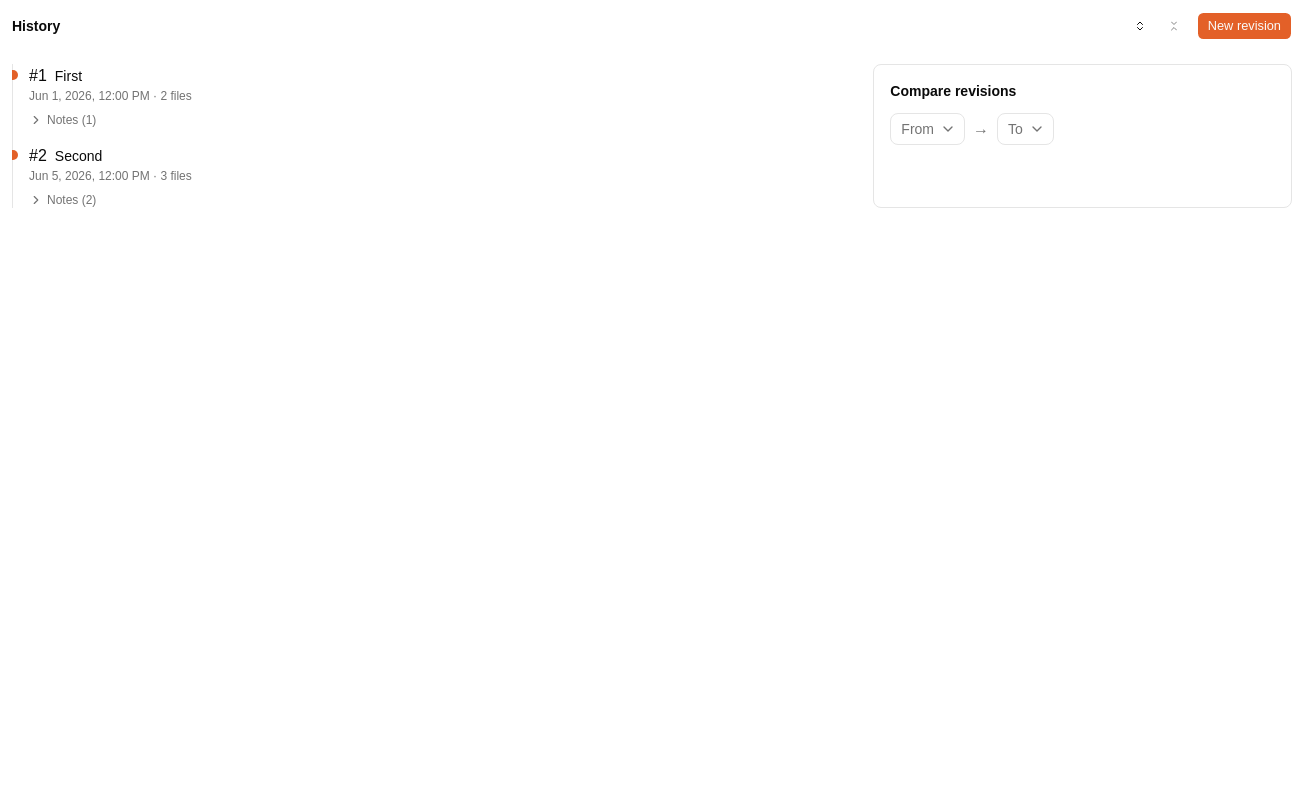
RevisionsTab -- notes drawer expand/collapse-all (Round 11 T7) › collapse-all closes every drawer again
Expected: the button "Notes (1)" is shown, [29,112,96,128]
Click the button named "Expand all revision notes" at (1140, 26), box [1125,14,1155,38]
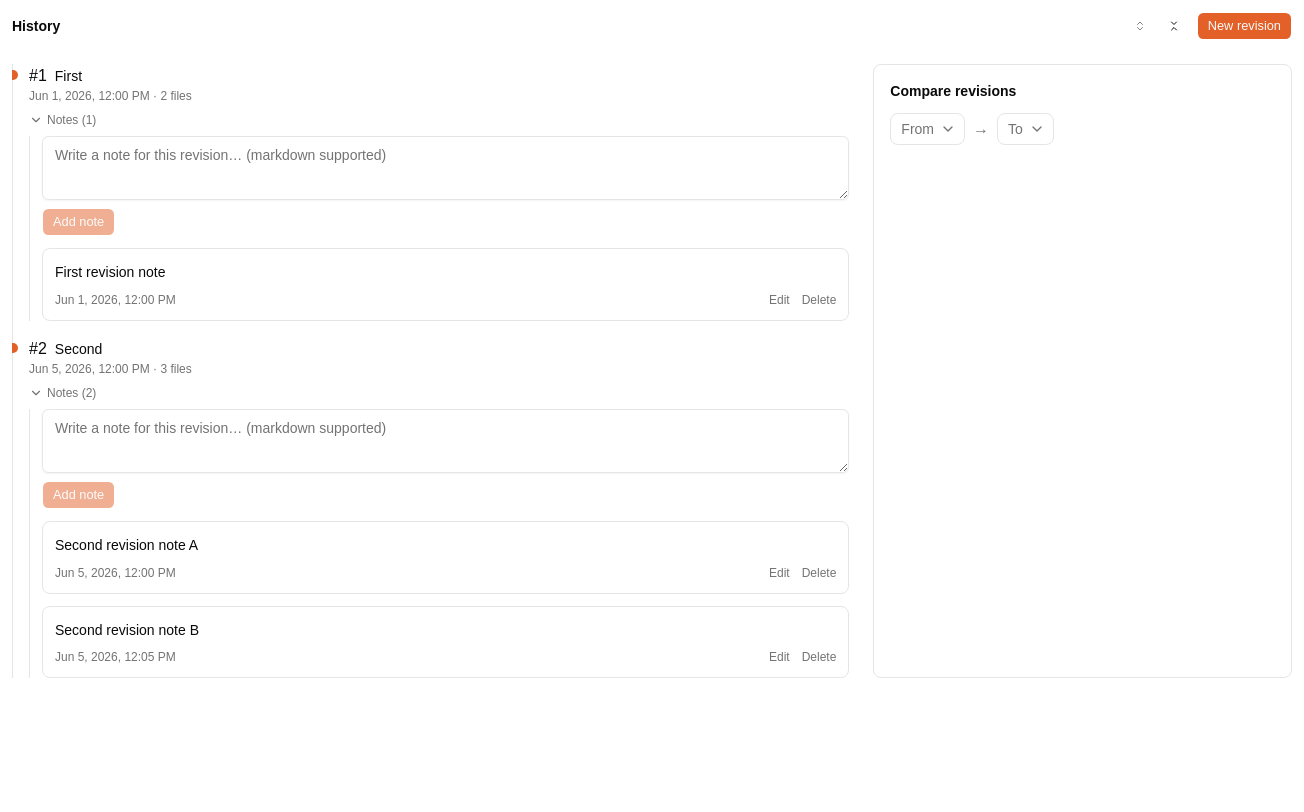
Expected: the text "First revision note" is shown, [55,264,166,280]
Click the button named "Collapse all revision notes" at (1174, 26), box [1159,14,1189,38]
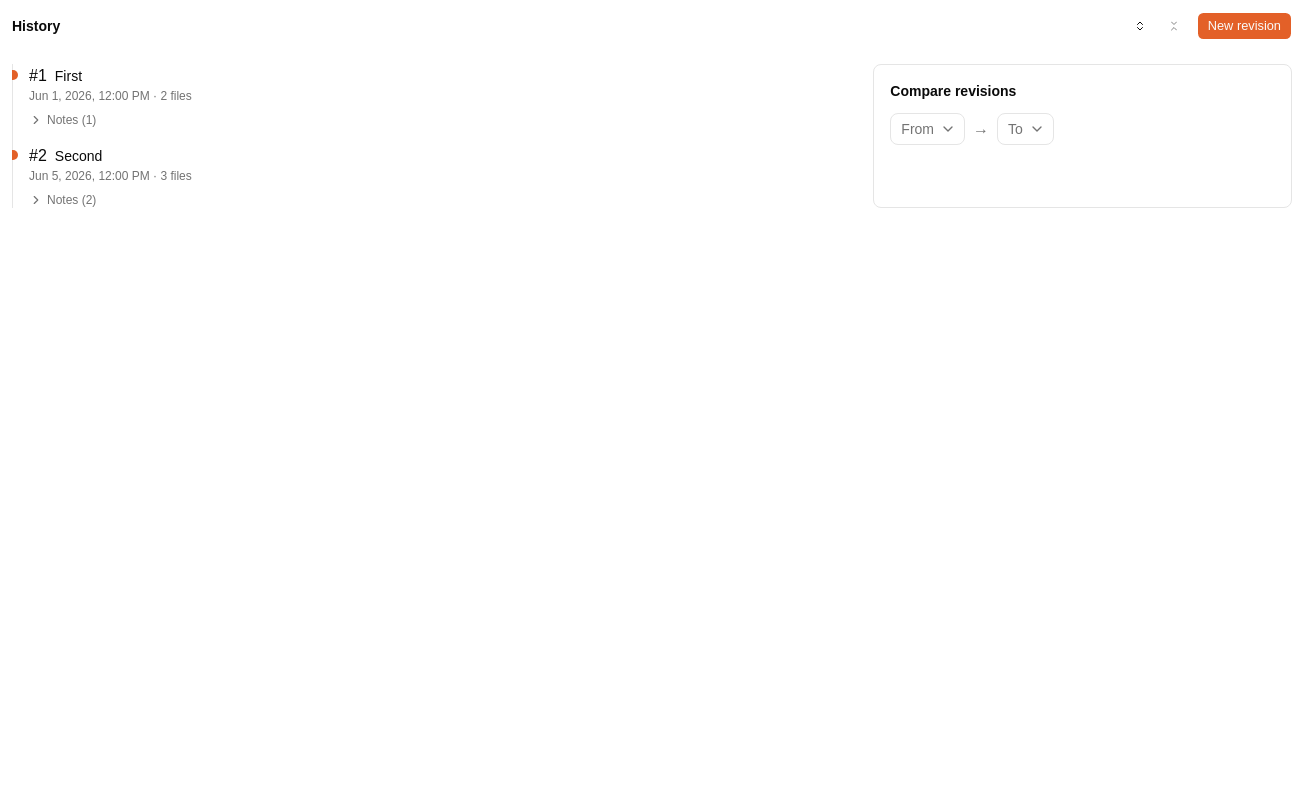
Expected: the button "Notes (1)" is collapsed, [29,112,96,128]
Expected: the button "Notes (2)" is collapsed, [29,192,96,208]
Expected: the text "First revision note" is gone
